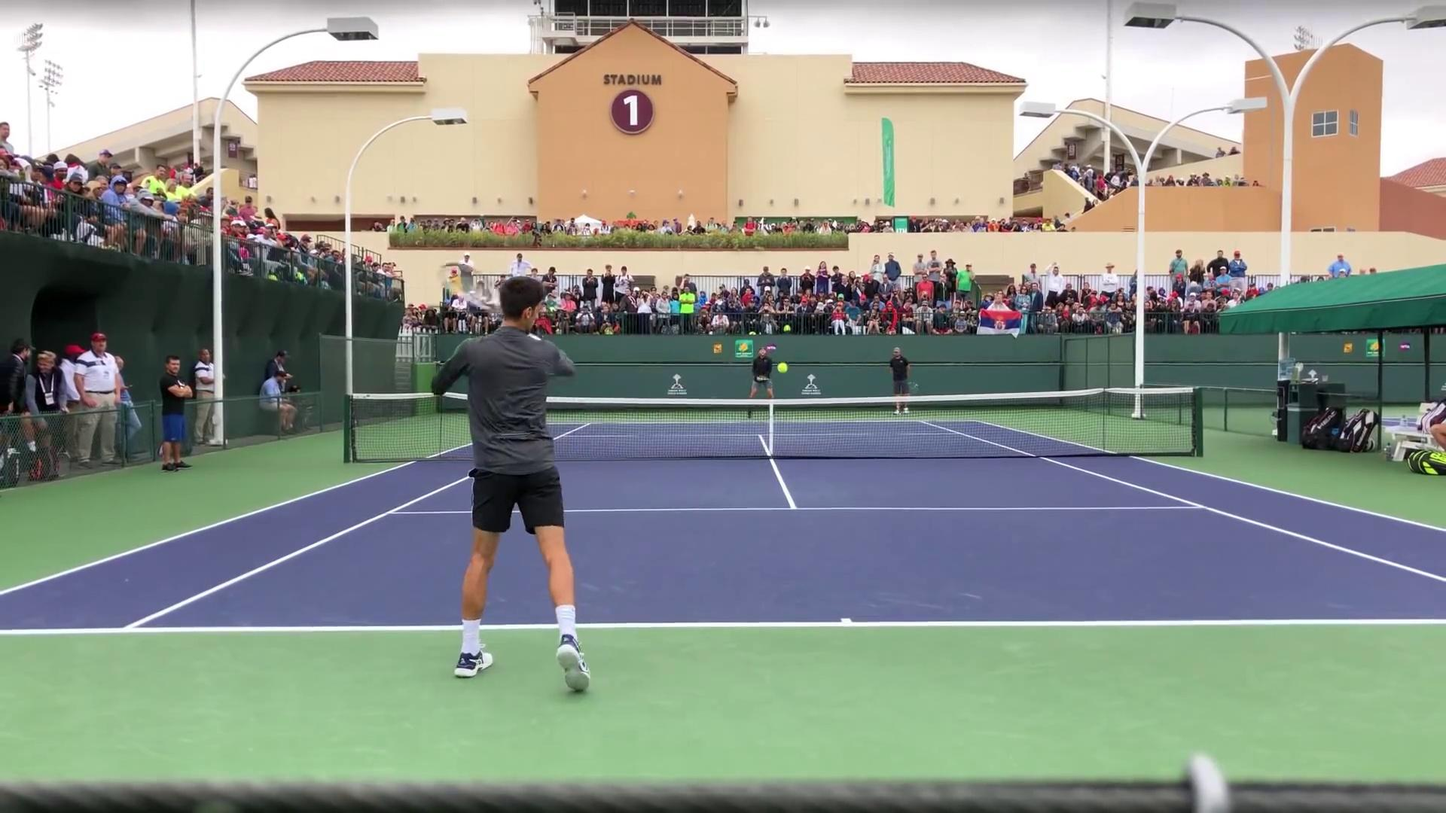ball: (777, 361, 789, 373), (1031, 260, 1034, 263)
